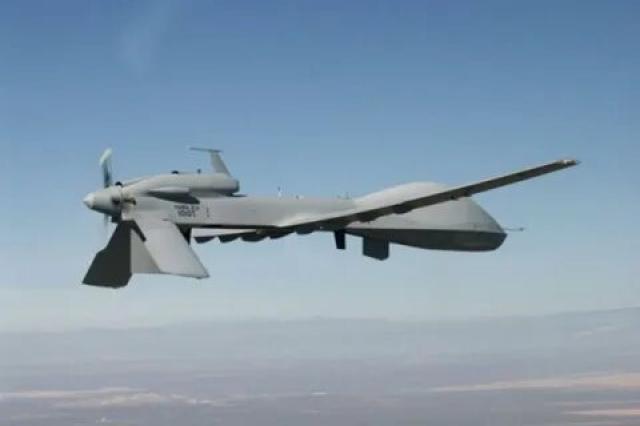military drone: (81, 146, 581, 289)
